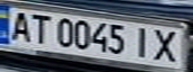0: (69, 18, 93, 51), (51, 16, 75, 48)
4: (90, 20, 112, 54)
5: (106, 21, 130, 56)
A: (3, 8, 36, 43)
I: (127, 25, 157, 60)
T: (24, 11, 54, 45)
X: (148, 26, 187, 64)
